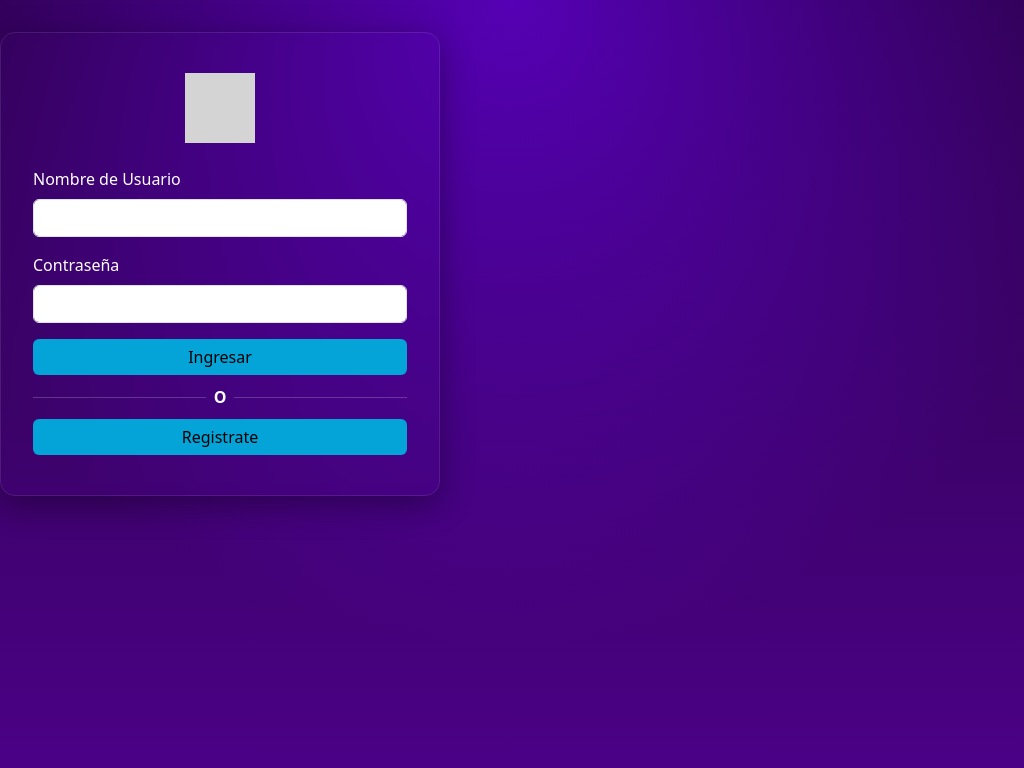
Test: Componente InicioSesion › login fallido: muestra mensaje de error y no navega
// Rellenar y enviar
Type "vega" into the field at [220, 218], box [33,199,407,237]
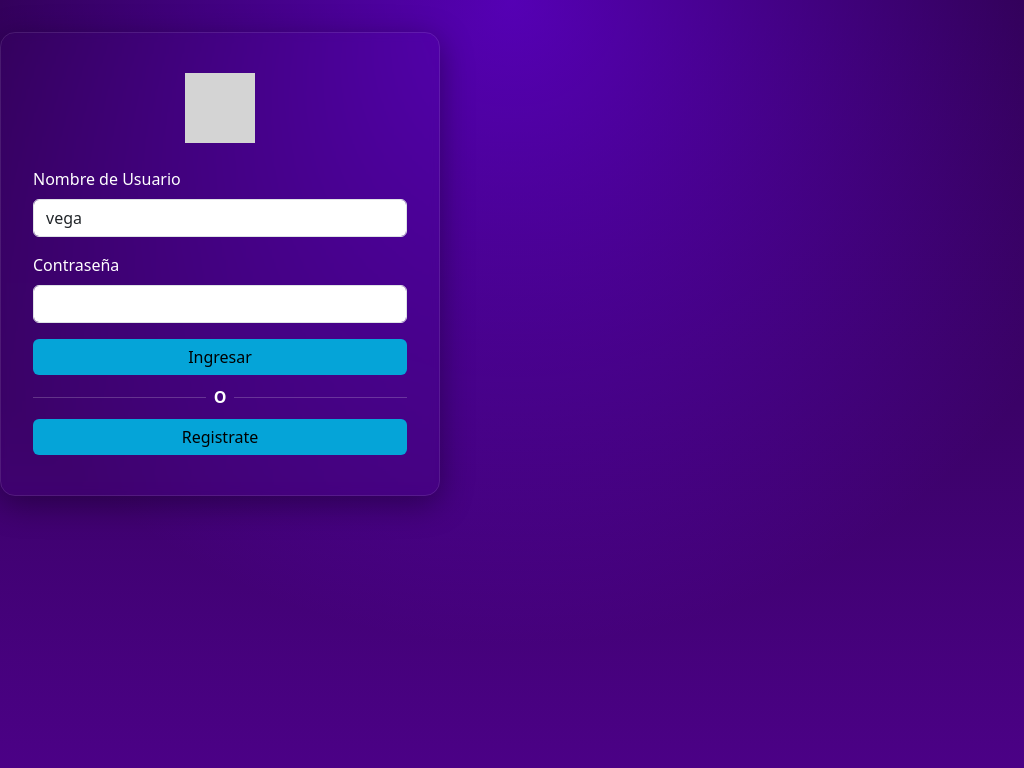
Type "wrong" into the password field at [220, 304], box [33,285,407,323]
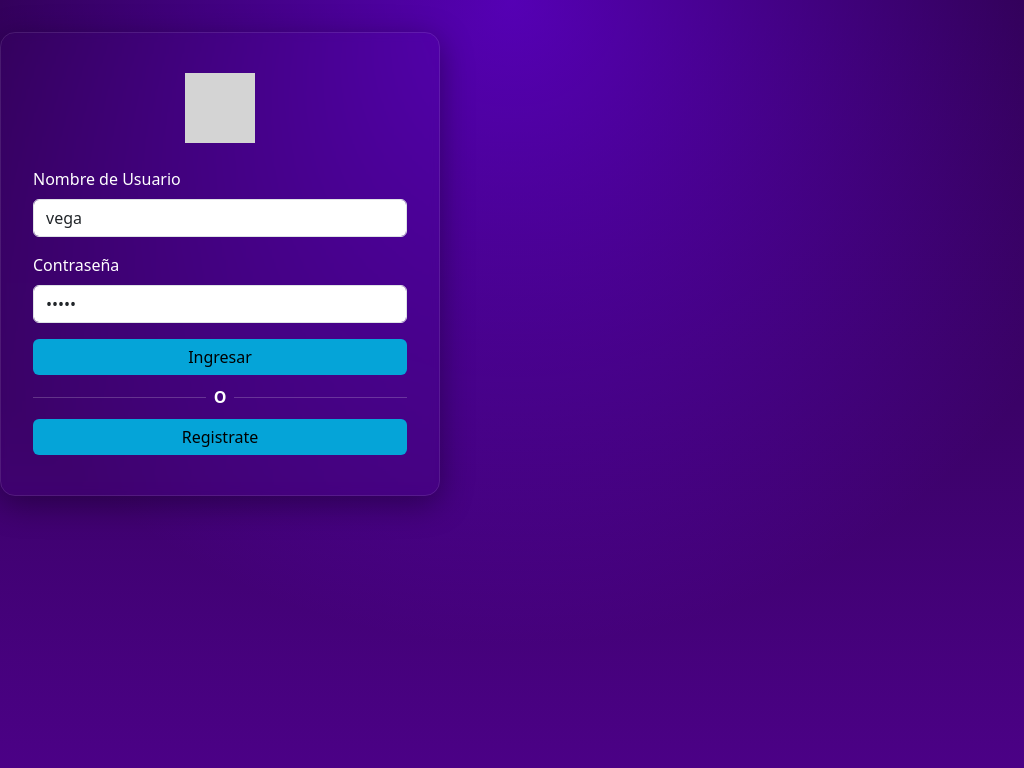
Click the button "Ingresar" at [220, 357], box [33,339,407,375]
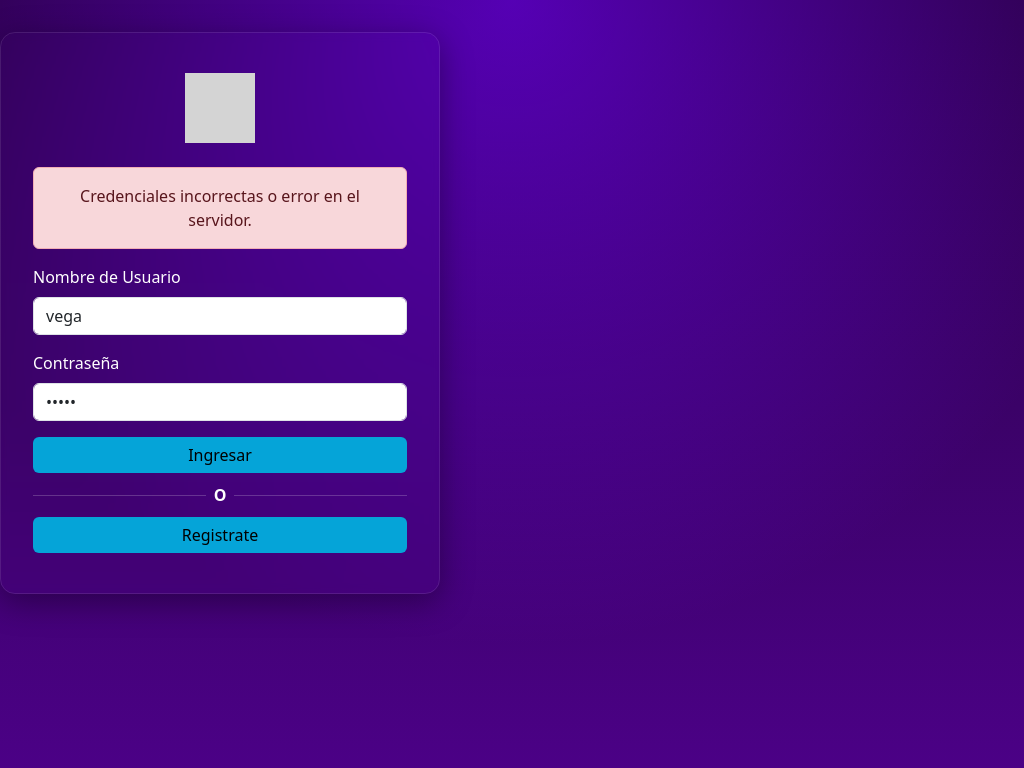
Now the text "Credenciales incorrectas o error en el servidor." is shown, box [33,167,407,249]
